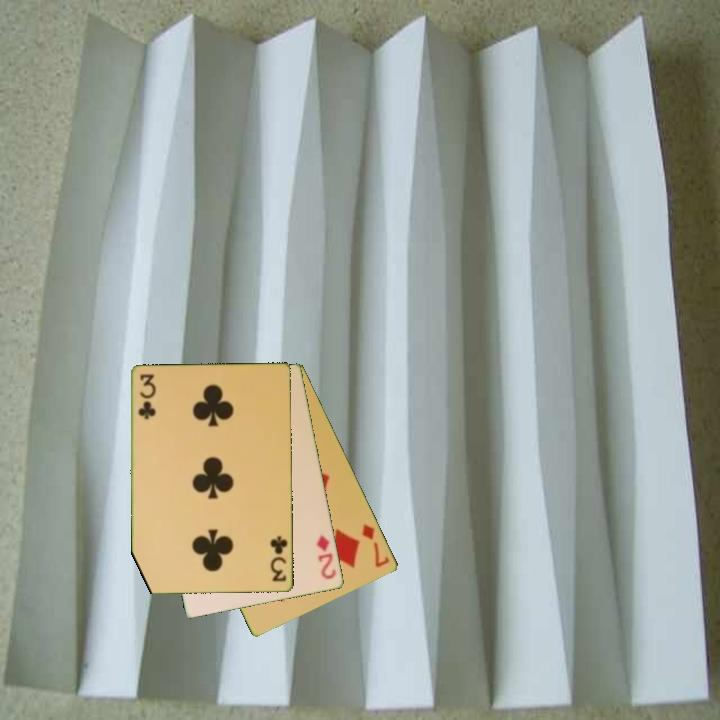2d: (313, 532, 339, 582)
3c: (267, 533, 291, 584), (135, 371, 156, 422)
7d: (358, 520, 392, 570)
